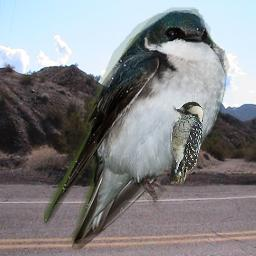Swallow: (44, 2, 232, 250)
Woodpecker: (170, 101, 204, 184)
